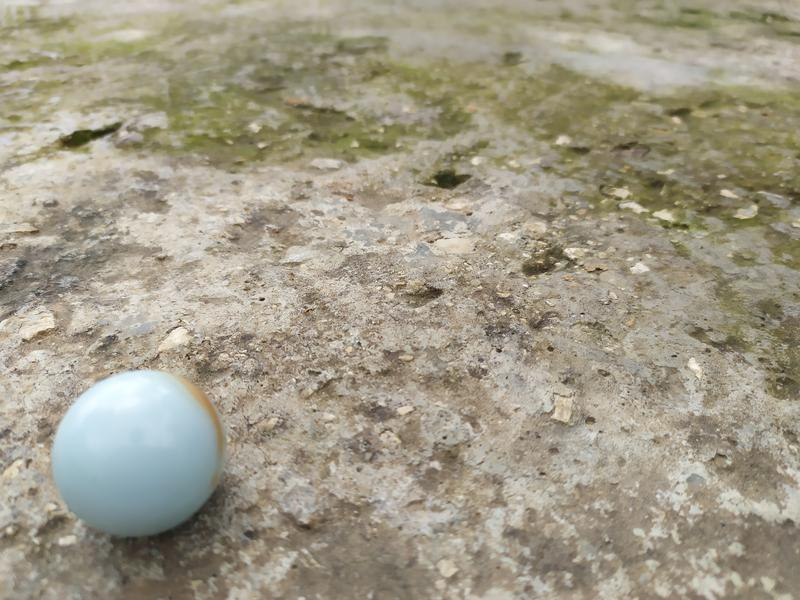Warning: (48, 365, 232, 542)
